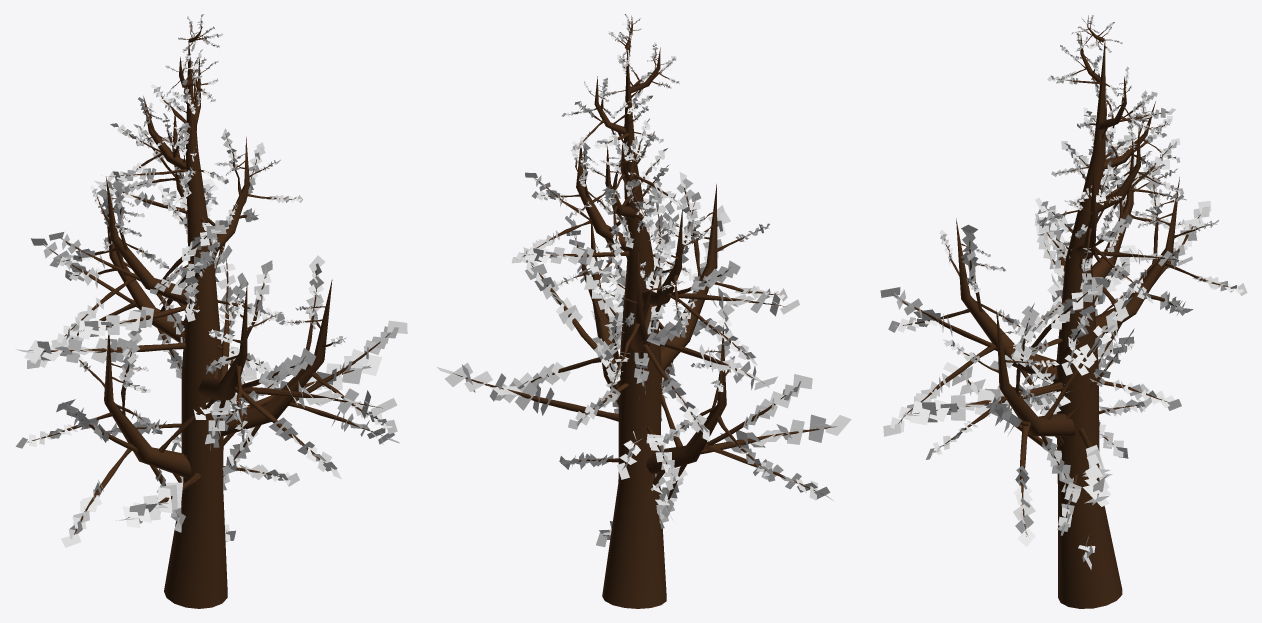
Rendered from koks4mesh.fbx.
3 views of the same model, side by side, from view 1: azimuth 30°, elevation 25°; view 2: azimuth 150°, elevation 25°; view 3: azimuth 270°, elevation 25° (orthographic).
Parts seen in each view (by area): view 1: Koks2.003; view 2: Koks2.003; view 3: Koks2.003.
Part boxes in pixels (bbox=[...]): Koks2.003: bbox=[15, 14, 407, 608]; Koks2.003: bbox=[437, 14, 851, 608]; Koks2.003: bbox=[880, 15, 1247, 608].
Bounding box in the file's own units: 23.4 × 36.33 × 20.61.
